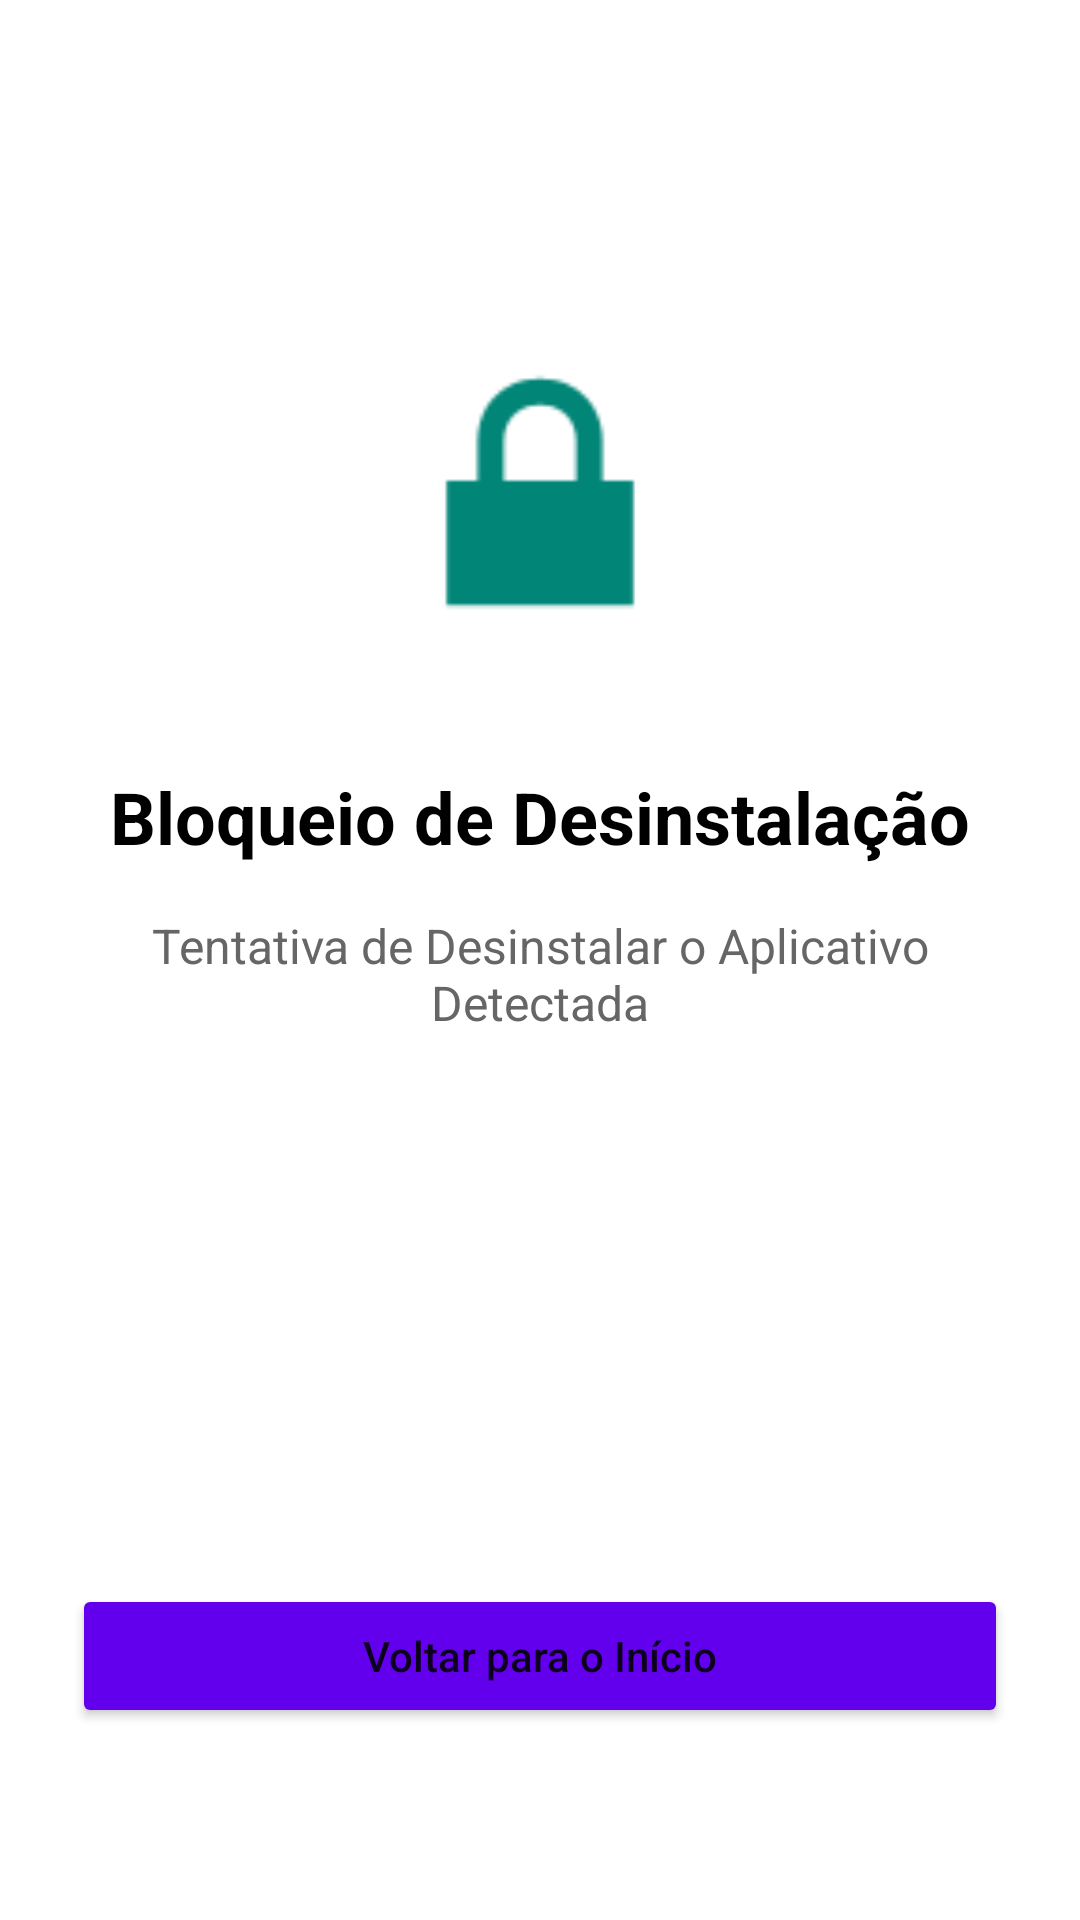

Where to tap for icons on this 1080 x 1920 app screen, as (x=x, y=y):
lock: (x=540, y=492)
